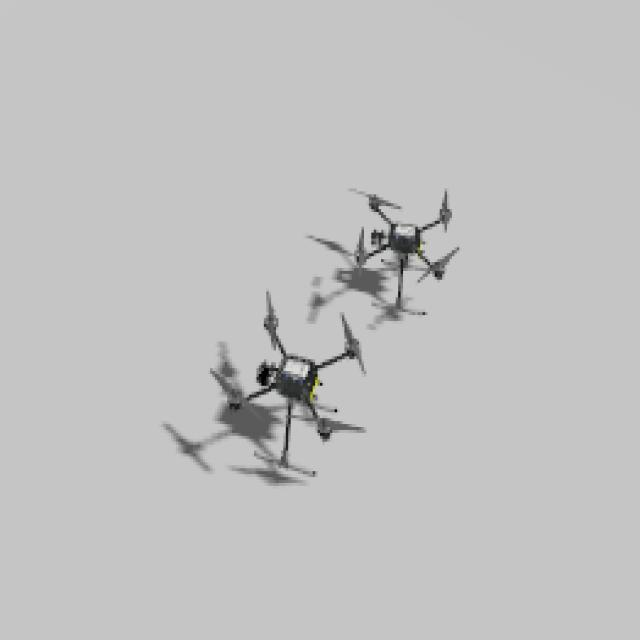drone: (208, 294, 369, 485), (349, 188, 471, 302)
